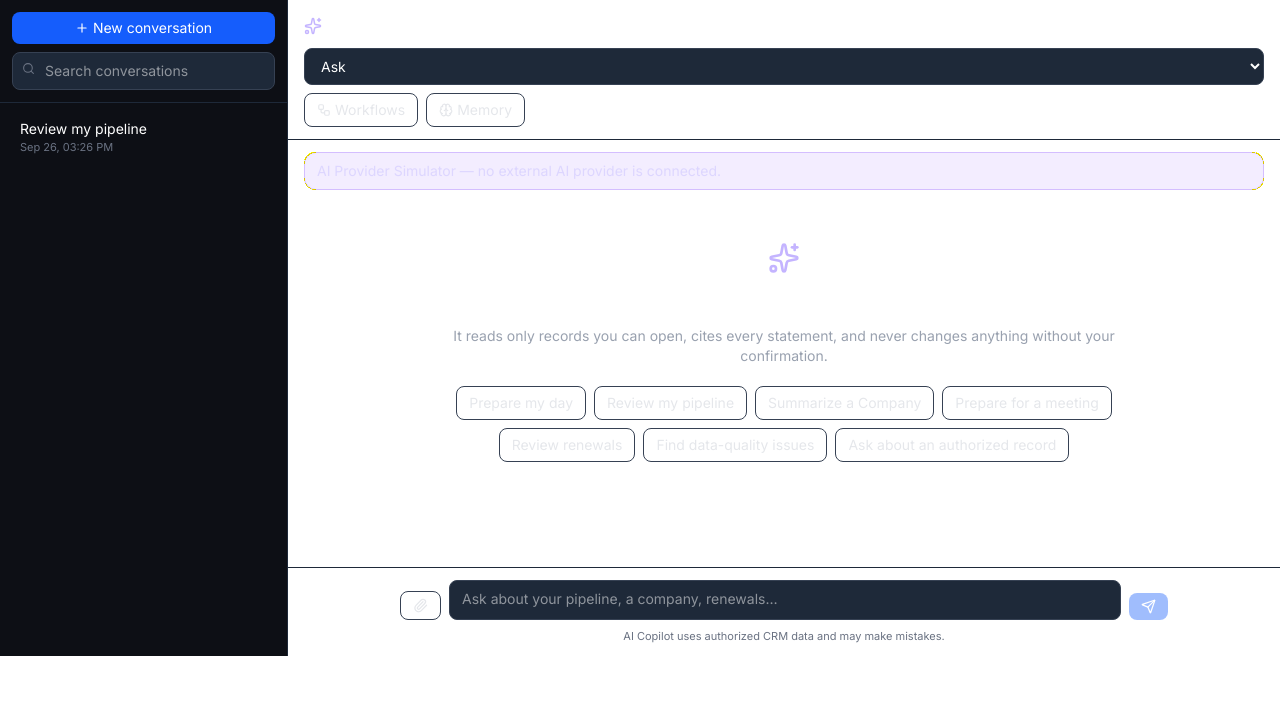
Scenario: AiCopilotBackend (backend AI mode) › an audit view is read-only
Click the text "Review my pipeline": point(84, 128) [20, 120, 147, 137]
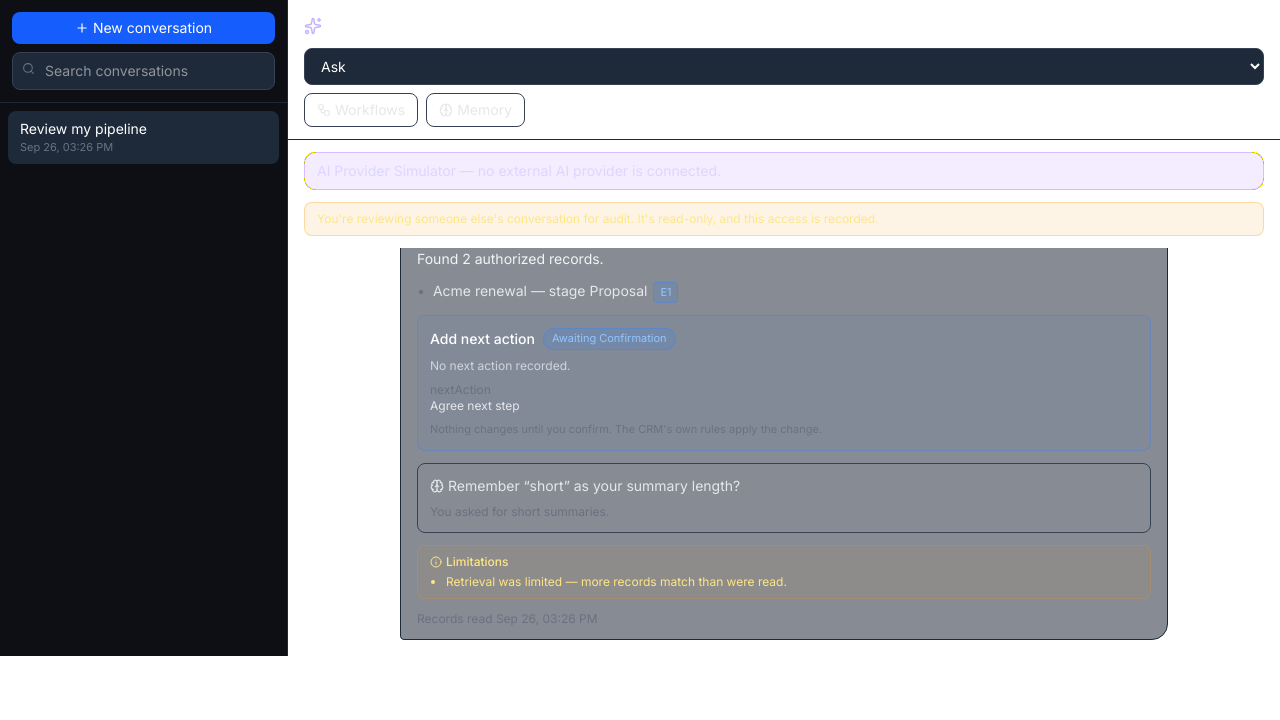
Expected: the field labelled "Message the Copilot" is not shown
Now the text "reviewing someone else's conversation" is shown, box [317, 211, 879, 226]
